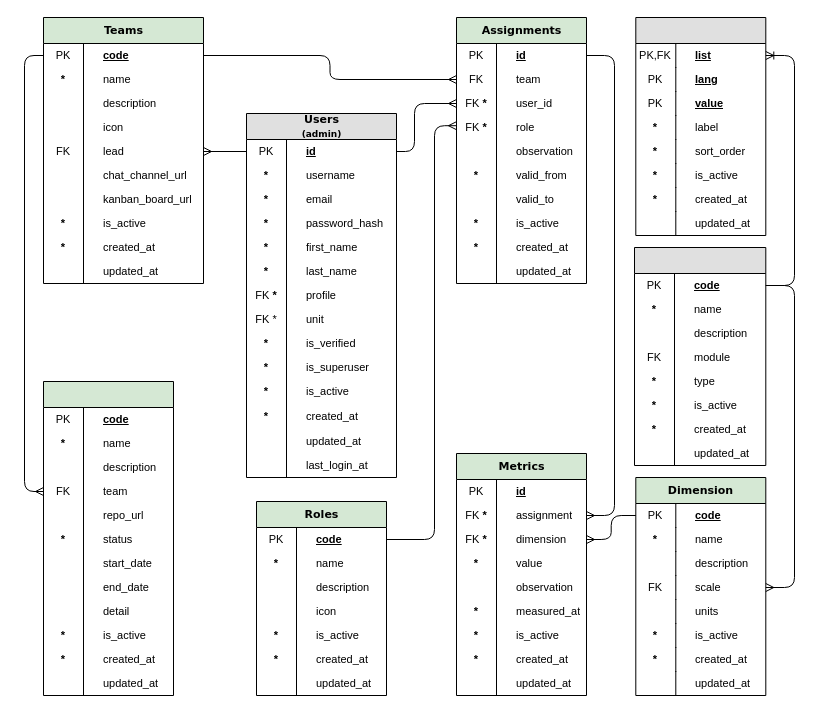
This 820x713 diagram has some shape labels left out. The shapes that lost their labels are listed below. From the top down, each one's box as (x1, y1, x2, y2) in pixels, then its label:
(635, 16, 766, 236): List_items (admin)
(634, 246, 766, 466): Lists (admin)
(42, 380, 174, 696): Projects
